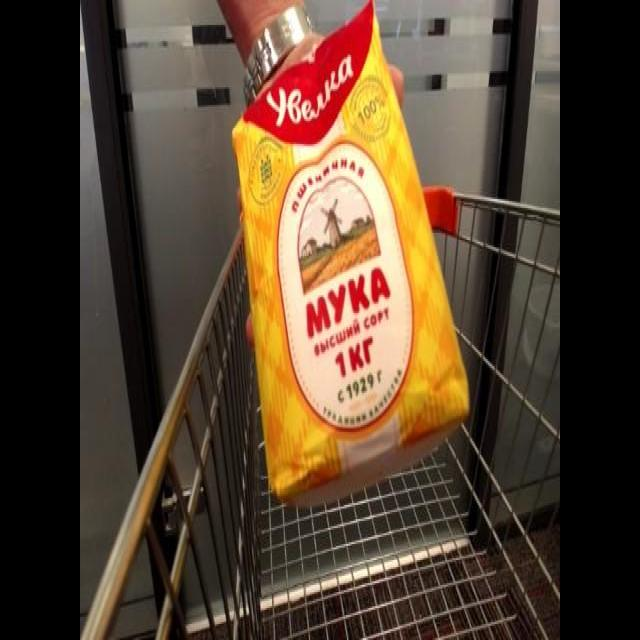Flour: (232, 8, 476, 502)
